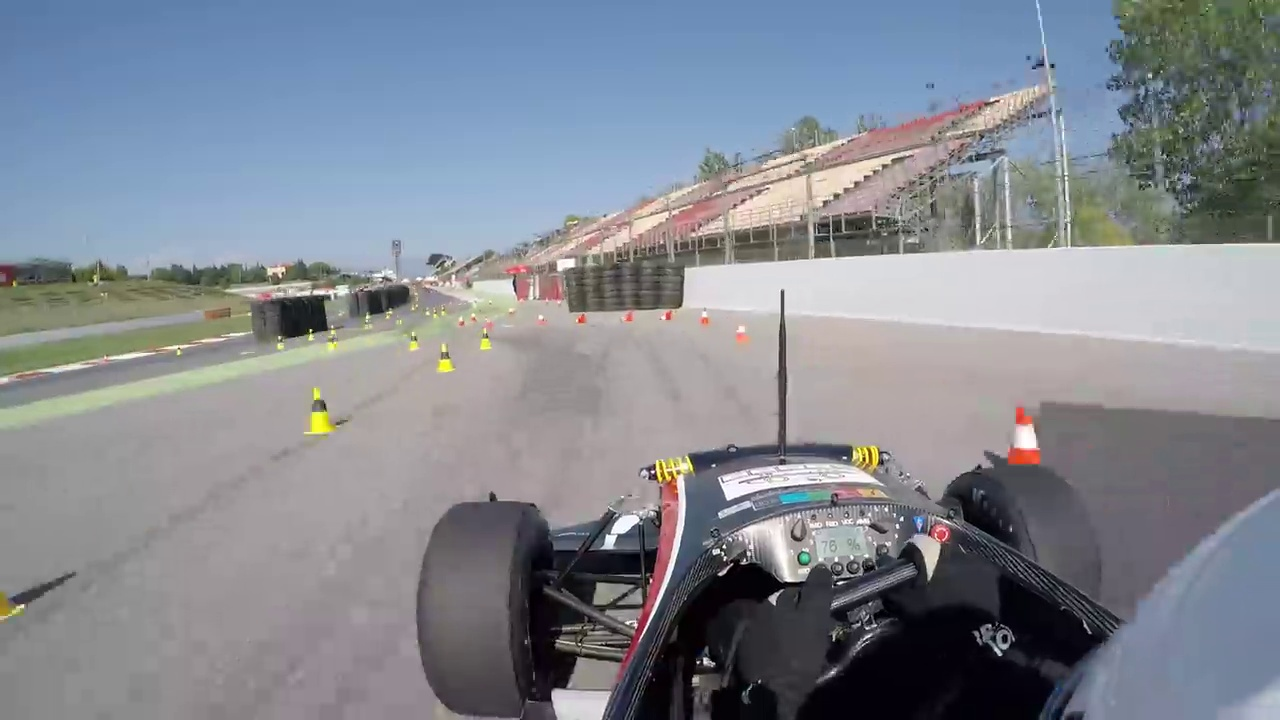Cone: (308, 386, 340, 436), (434, 344, 457, 375)
